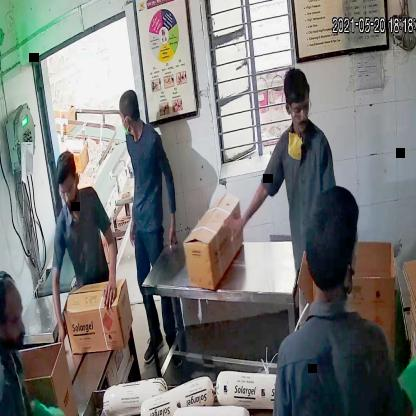goggles: (285, 101, 314, 120), (58, 183, 76, 200)
no_goggles: (0, 310, 27, 338)
